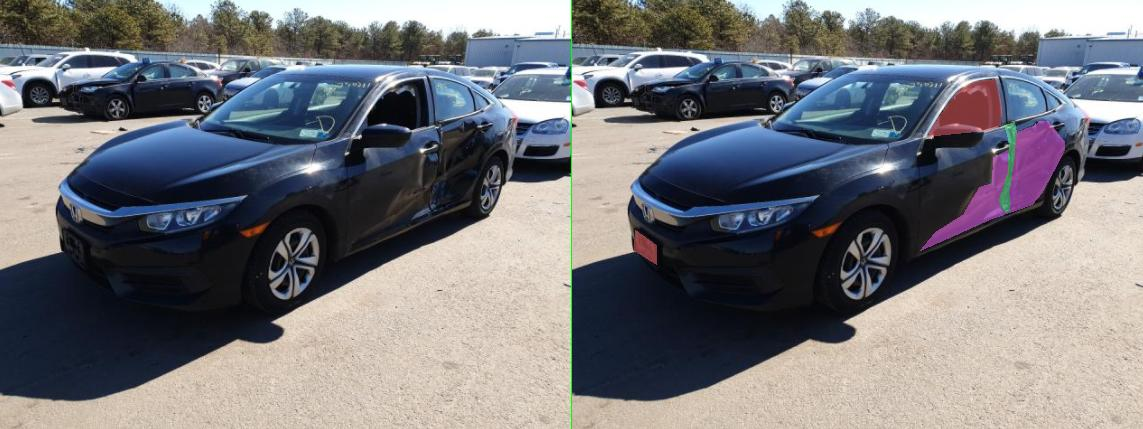Broken part: (855, 122, 889, 212)
Dent: (697, 121, 985, 250)
Missing part: (713, 79, 859, 136), (124, 230, 168, 264)
